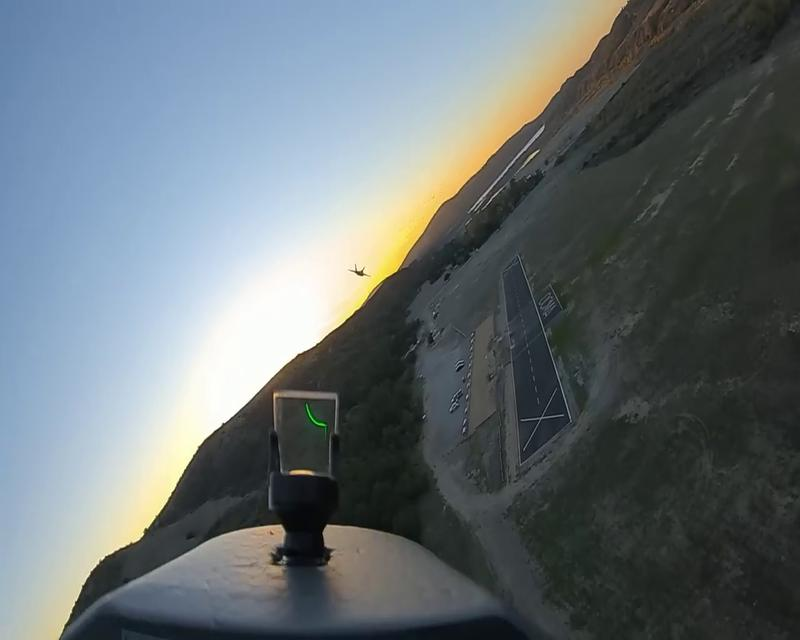UAV: (347, 261, 370, 278)
